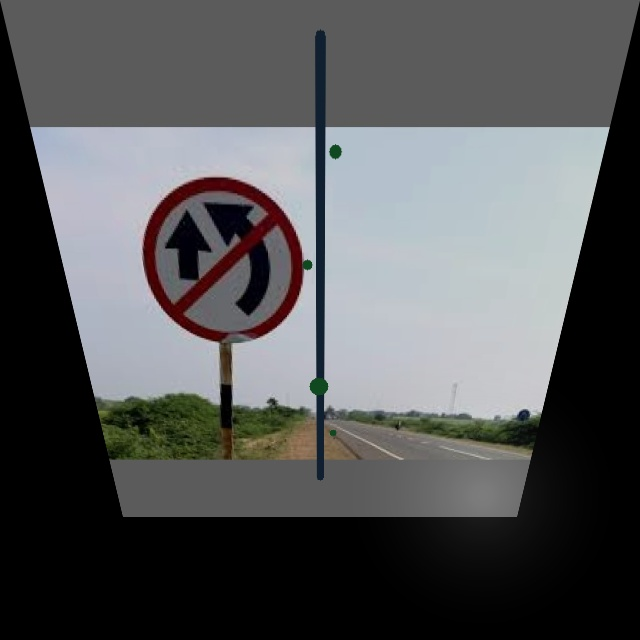Overtaking_Prohibited: (139, 179, 299, 338)
